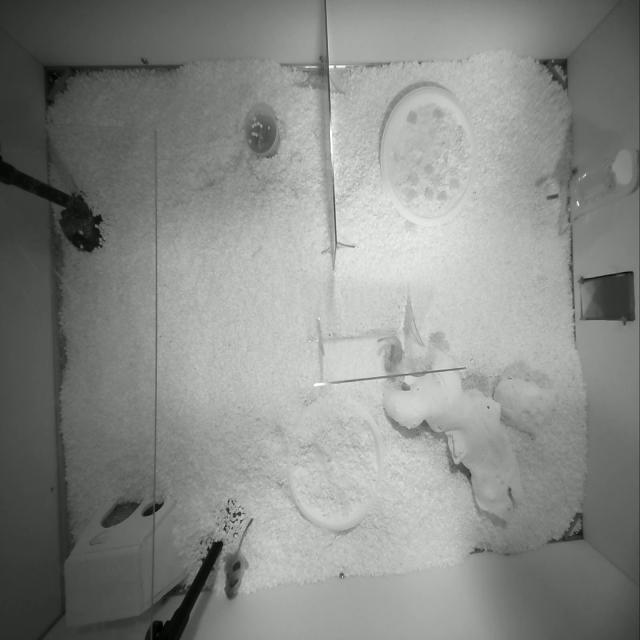pup_spotted: (224, 518, 252, 598)
pup_v_stripe: (378, 337, 403, 372)
